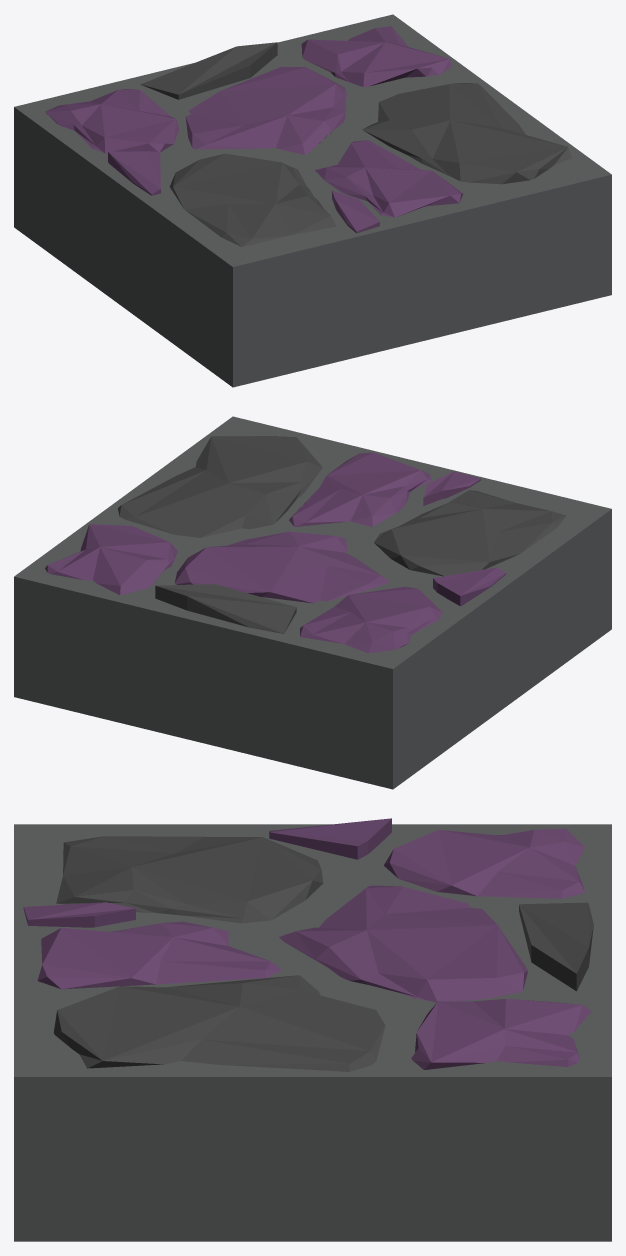
Rendered from Ground_Tiles_Large_05.FBX.
3 views of the same model, one above another, from view 1: azimuth 30°, elevation 25°; view 2: azimuth 150°, elevation 25°; view 3: azimuth 270°, elevation 25° (orthographic). The views are drawn at different scales.
Visible parts, largest first — view 1: Ground_Tiles_Large_05; view 2: Ground_Tiles_Large_05; view 3: Ground_Tiles_Large_05.
Part boxes in pixels (<box>): Ground_Tiles_Large_05: <box>14,14,611,387</box>; Ground_Tiles_Large_05: <box>14,416,611,789</box>; Ground_Tiles_Large_05: <box>14,818,611,1241</box>.
Size of the model in its own units: 100 by 34 by 100.
